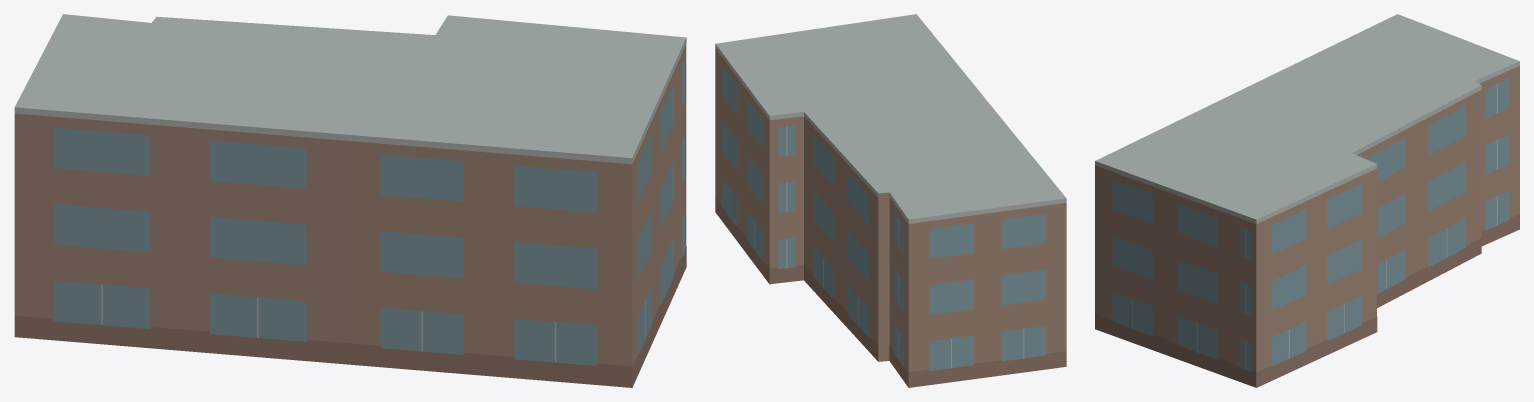
Rendered from survey-upis-32494097.glb.
3 renders of one model, left to right at view 1: azimuth 30°, elevation 25°; view 2: azimuth 150°, elevation 25°; view 3: azimuth 270°, elevation 25°, orthographic. The views are drawn at different scales.
Parts seen in each view (by area): view 1: survey-upis-32494097.tmp; view 2: survey-upis-32494097.tmp; view 3: survey-upis-32494097.tmp.
Boxes of the visible parts, x1,y1,x2,y2 form: survey-upis-32494097.tmp: (14,14,686,387); survey-upis-32494097.tmp: (715,14,1066,387); survey-upis-32494097.tmp: (1095,14,1519,387).
Size of the model in its own units: 24 by 9.15 by 20.95.
